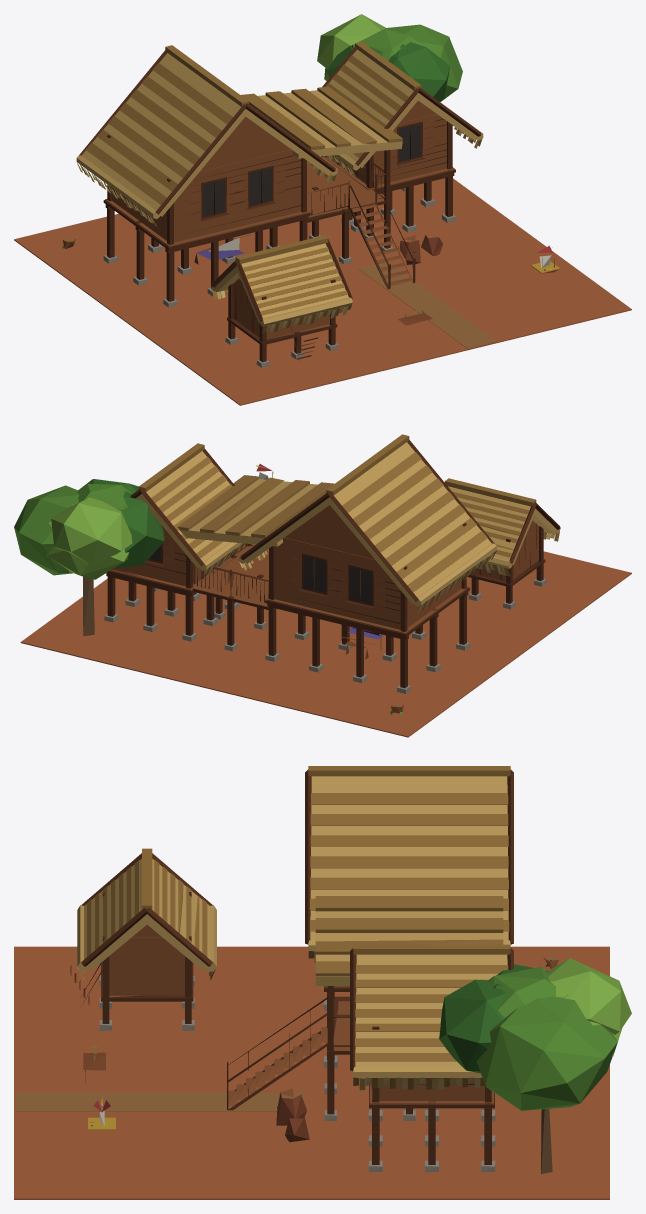
Rendered from home_3.glb.
3 renders of one model, top to bottom at view 1: azimuth 30°, elevation 25°; view 2: azimuth 150°, elevation 25°; view 3: azimuth 270°, elevation 25°, orthographic. The views are drawn at different scales.
Visible parts, largest first — view 1: body, windows; view 2: body, windows; view 3: body.
Boxes of the visible parts, x1,y1,x2,y2 form: body: [14, 14, 631, 405]; windows: [203, 124, 421, 216]; body: [14, 434, 631, 737]; windows: [149, 546, 371, 603]; body: [14, 766, 631, 1199].
Bounding box in the file's own units: 16.85 × 7.76 × 16.48.
